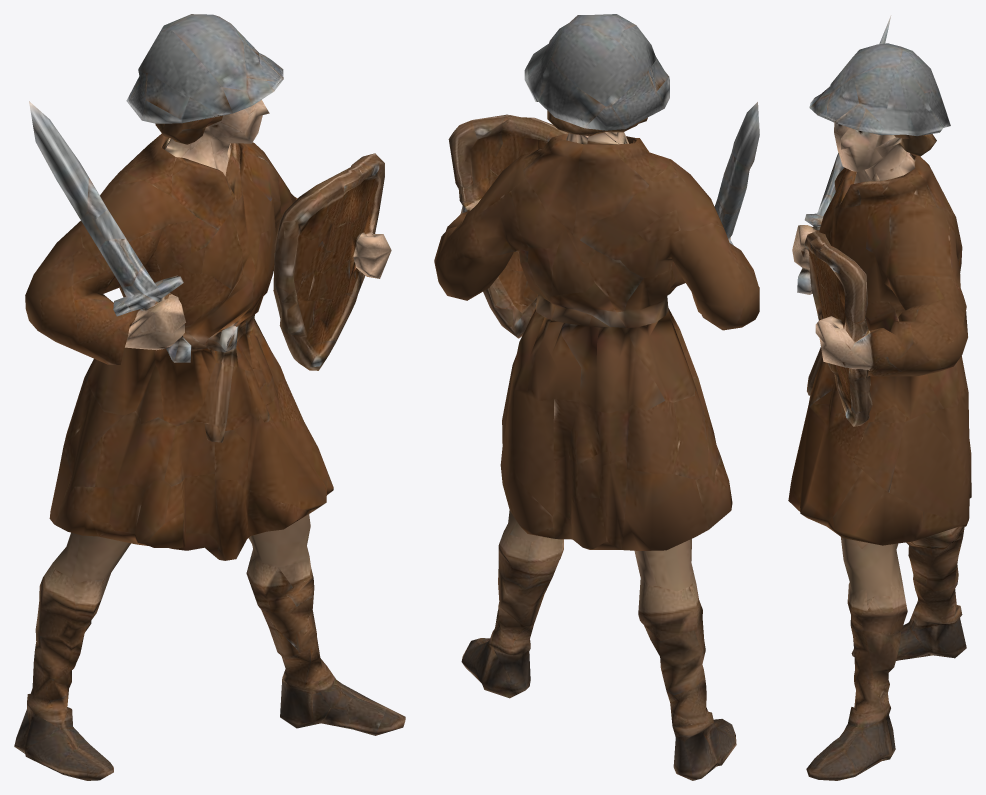
The model's file is mil.glb.
The picture shows the model from 3 angles, left to right: view 1: azimuth 30°, elevation 25°; view 2: azimuth 150°, elevation 25°; view 3: azimuth 270°, elevation 25°; orthographic projection. The views are drawn at different scales.
Size of the model in its own units: 0.923 by 1.9 by 0.4761.
1 material, 1 textured.
